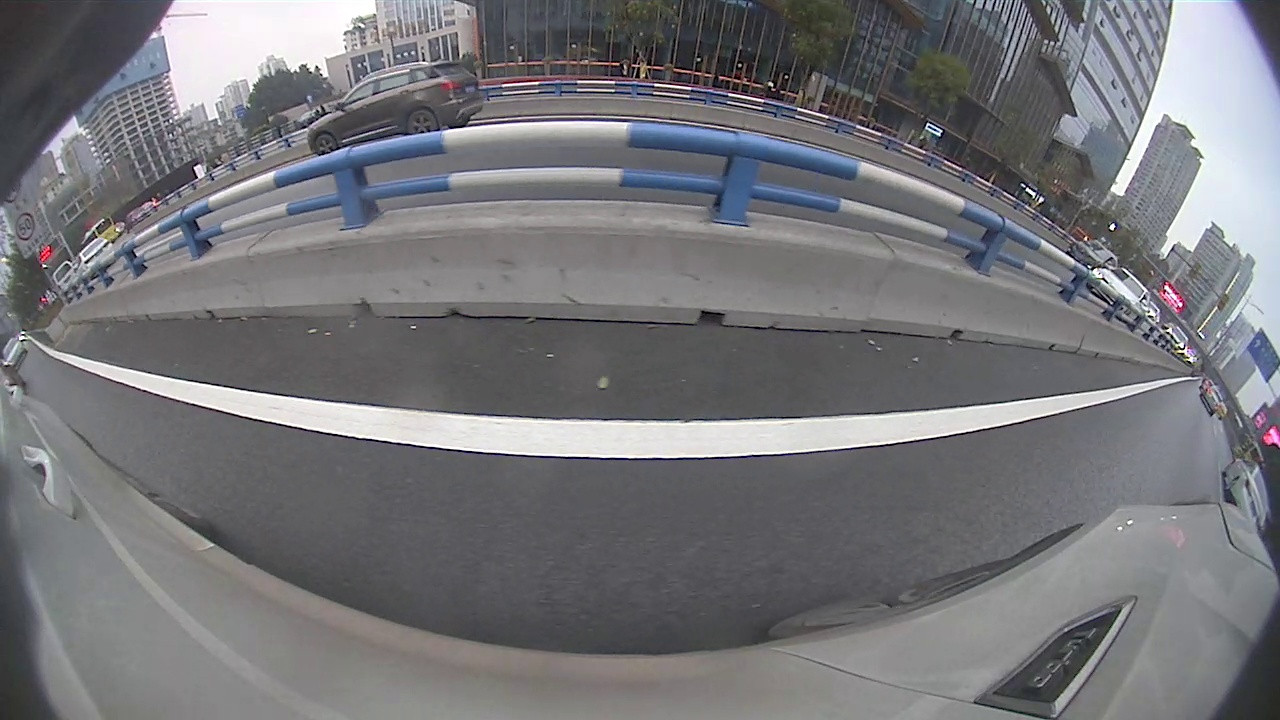car: (307, 57, 484, 154), (1199, 384, 1224, 418)
front: (310, 128, 341, 152)
rear: (402, 106, 441, 133)
